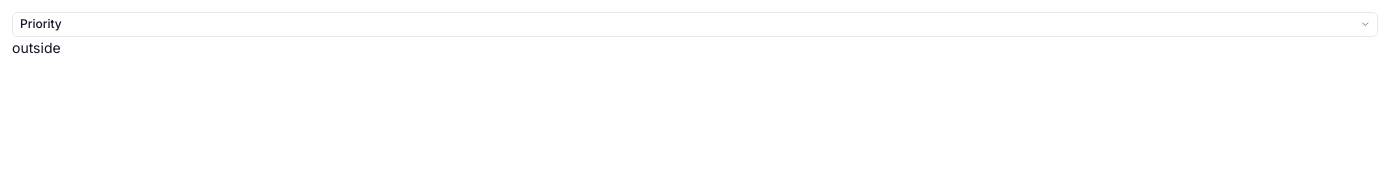
MultiSelect › opens a multi-select listbox from a collapsed trigger
What coordinates should you click on to do the following:
click the button "Priority"
I would click on:
 (41, 24)
Its box is [12,12,1378,36].
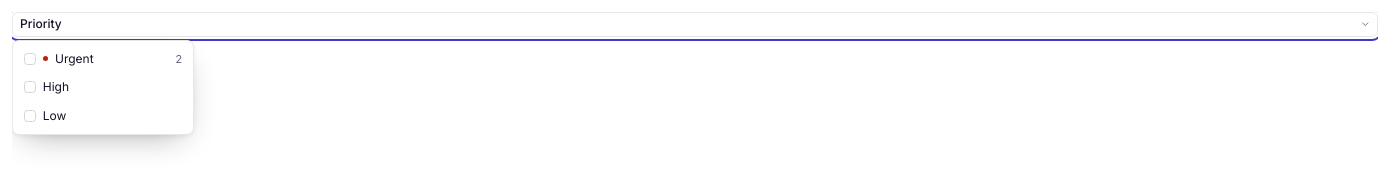
Now the number of options is 3, box [16,44,190,73]; [16,73,190,102]; [16,102,190,130]
